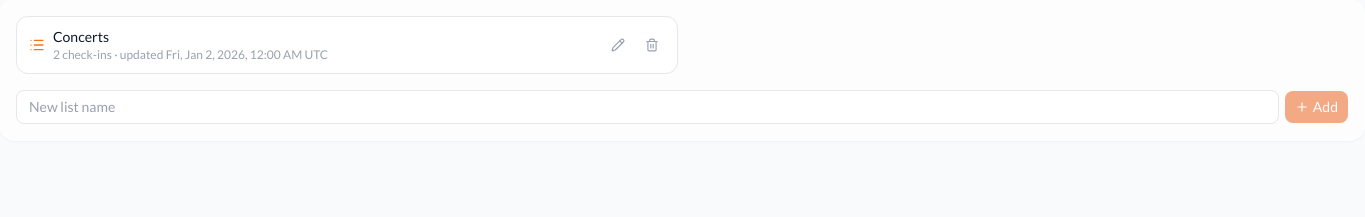
Test: CheckinListsSection › links venue name and check-in date to their detail pages (new tab)
The image size is (1365, 217).
Click the button with aria-label "Open Concerts". click: (325, 45)
box: [53,27,597,63]
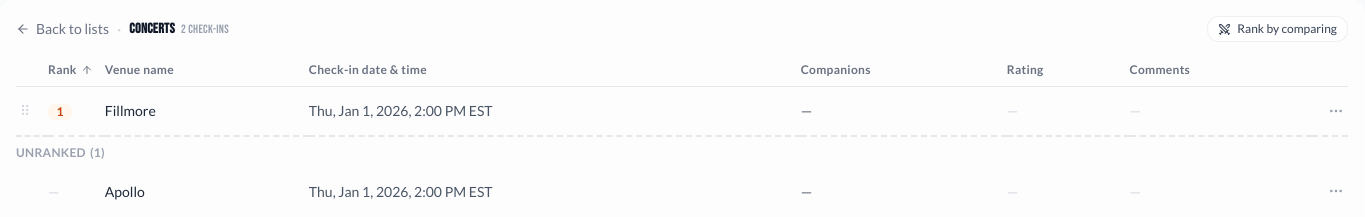
expect the button "Back to lists" is shown: met, box [16,19,109,39]
expect the link "Fillmore" is shown: met, box [105,102,156,119]
